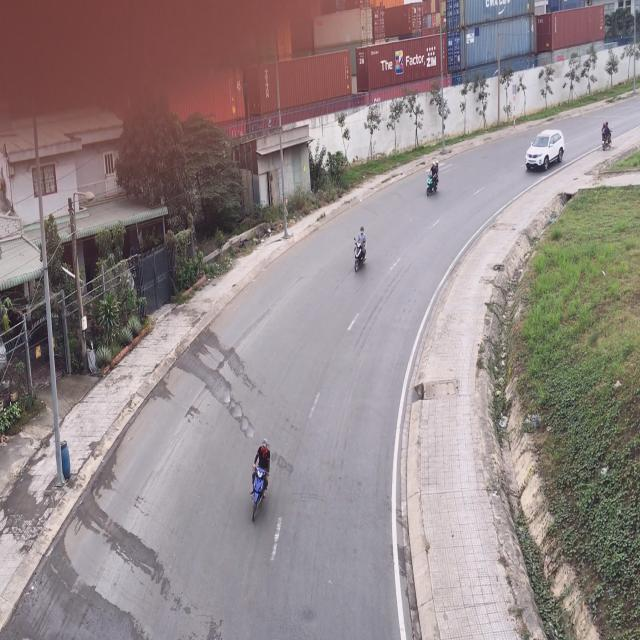car: (523, 128, 563, 173)
motorbike: (252, 444, 274, 524), (352, 226, 368, 277), (424, 160, 439, 197), (600, 120, 614, 152)
